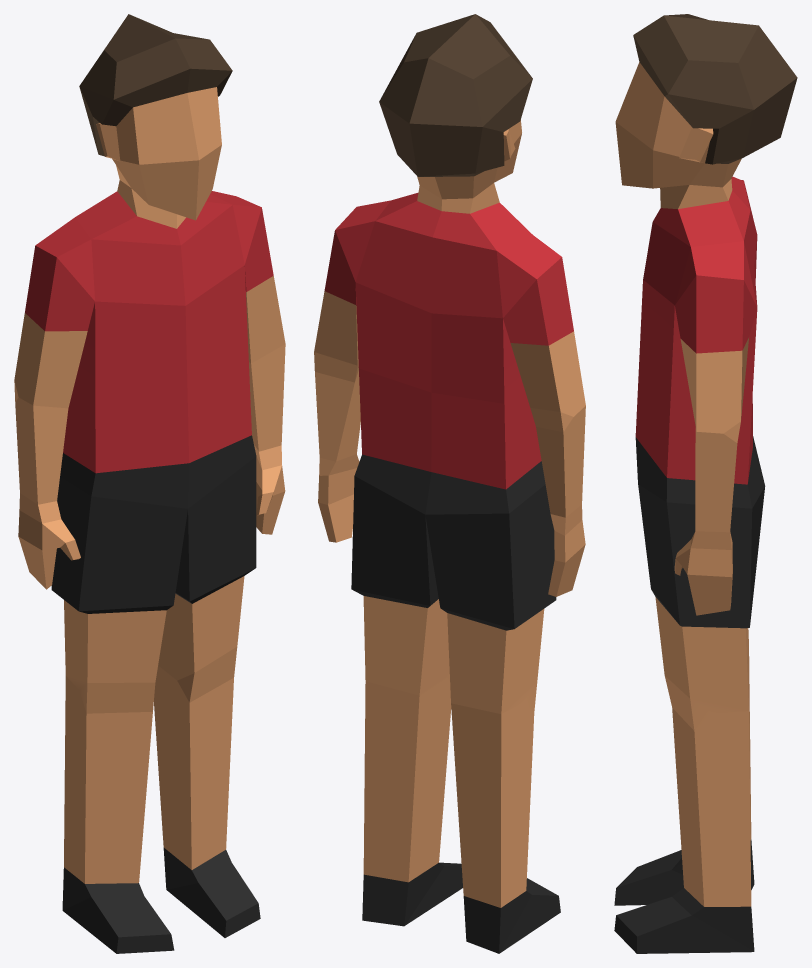
The model's file is people_boy-sport.fbx.
3 renders of one model, left to right at view 1: azimuth 30°, elevation 25°; view 2: azimuth 150°, elevation 25°; view 3: azimuth 270°, elevation 25°, orthographic.
Visible parts, largest first — view 1: people_boy_sport; view 2: people_boy_sport; view 3: people_boy_sport.
Part boxes in pixels (x1=…): people_boy_sport: x1=14, y1=14, x2=285, y2=953; people_boy_sport: x1=314, y1=14, x2=585, y2=953; people_boy_sport: x1=614, y1=14, x2=797, y2=953.
Bounding box in the file's own units: 60.01 × 200 × 36.76.
